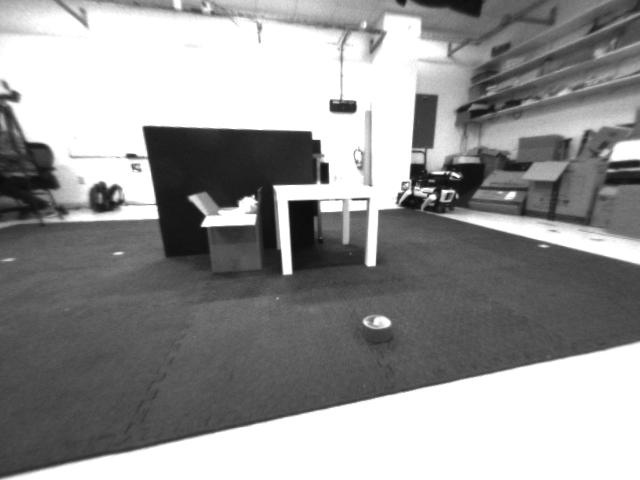dogtoy: (339, 308, 402, 347)
